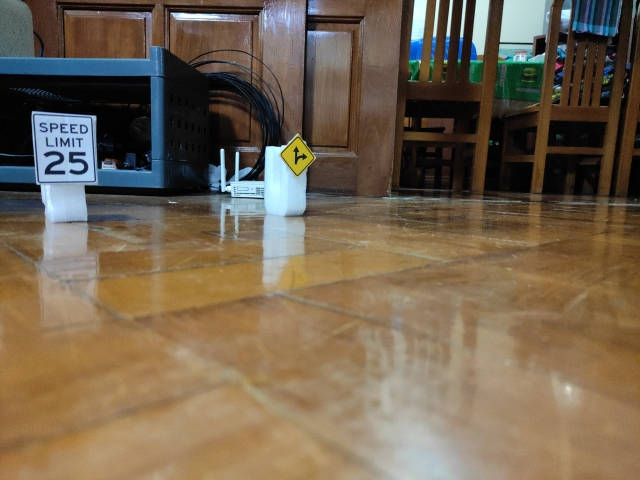Speed Limit 25: (31, 109, 101, 185)
Straight Or Right Sign: (280, 135, 317, 177)
